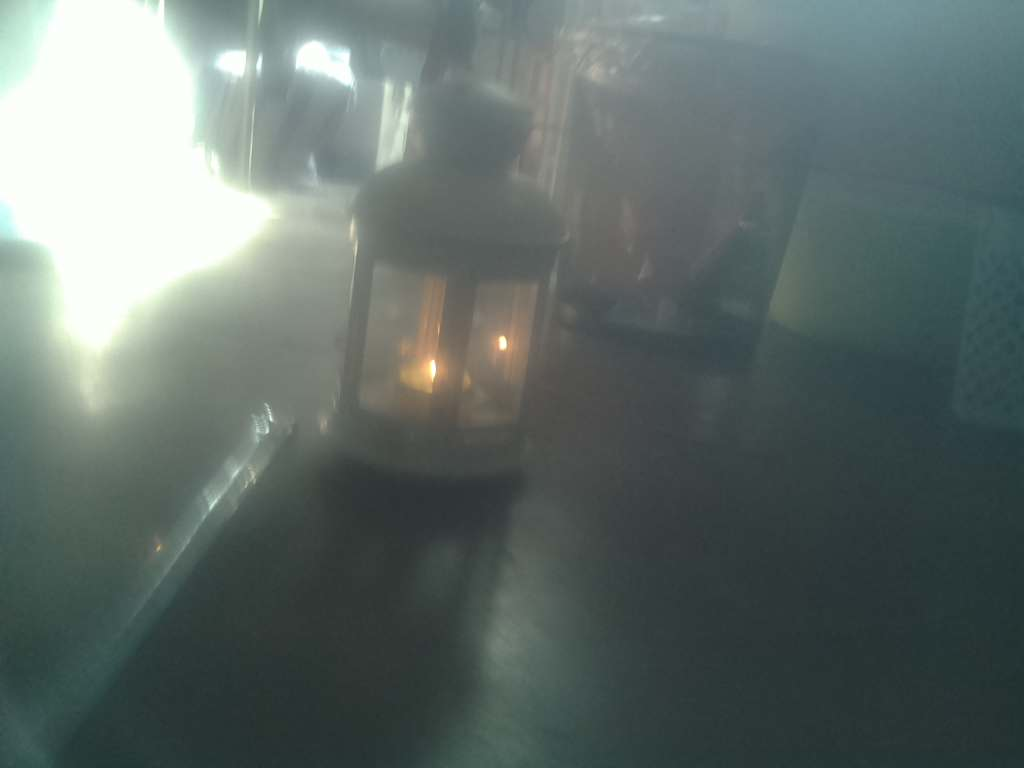fire: (393, 334, 481, 430)
